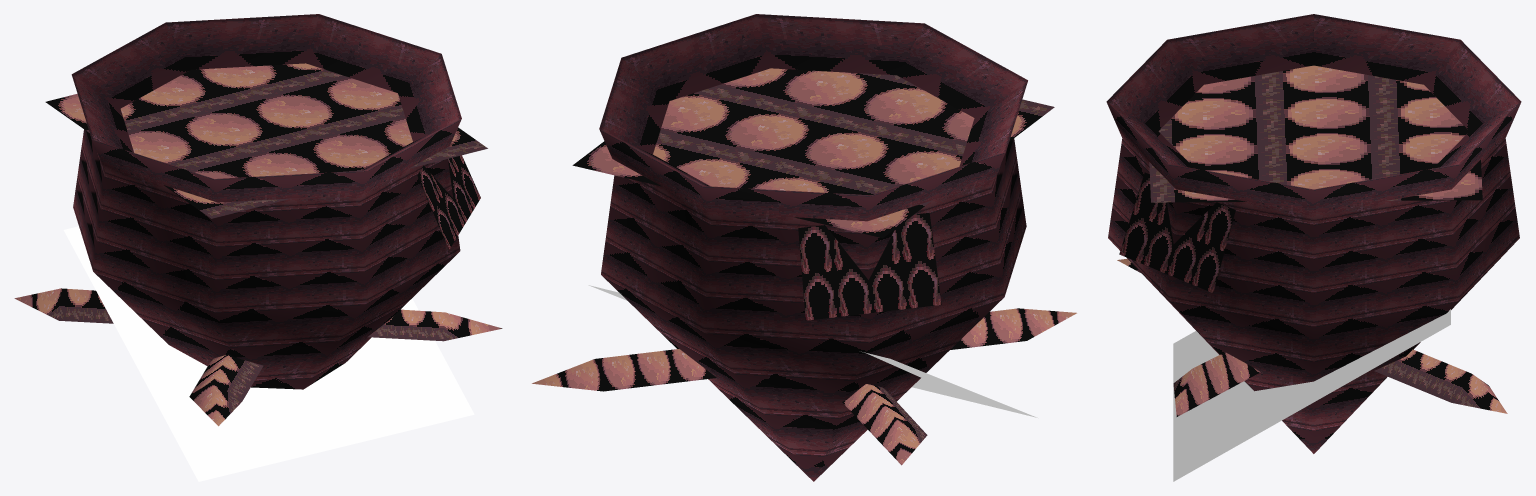
File: 3138IMFY01_10.gltf
The picture shows the model from 3 angles, left to right: view 1: azimuth 30°, elevation 25°; view 2: azimuth 150°, elevation 25°; view 3: azimuth 270°, elevation 25°; orthographic projection. The views are drawn at different scales.
Visible parts, largest first — view 1: 3138IMFY01_10; view 2: 3138IMFY01_10; view 3: 3138IMFY01_10.
Part boxes in pixels (x1,y1,x2,y2): 3138IMFY01_10: [14, 14, 502, 481]; 3138IMFY01_10: [532, 14, 1076, 481]; 3138IMFY01_10: [1106, 14, 1521, 481].
Size of the model in its own units: 1.87 by 1.76 by 1.87.
4 materials, 4 textured.
